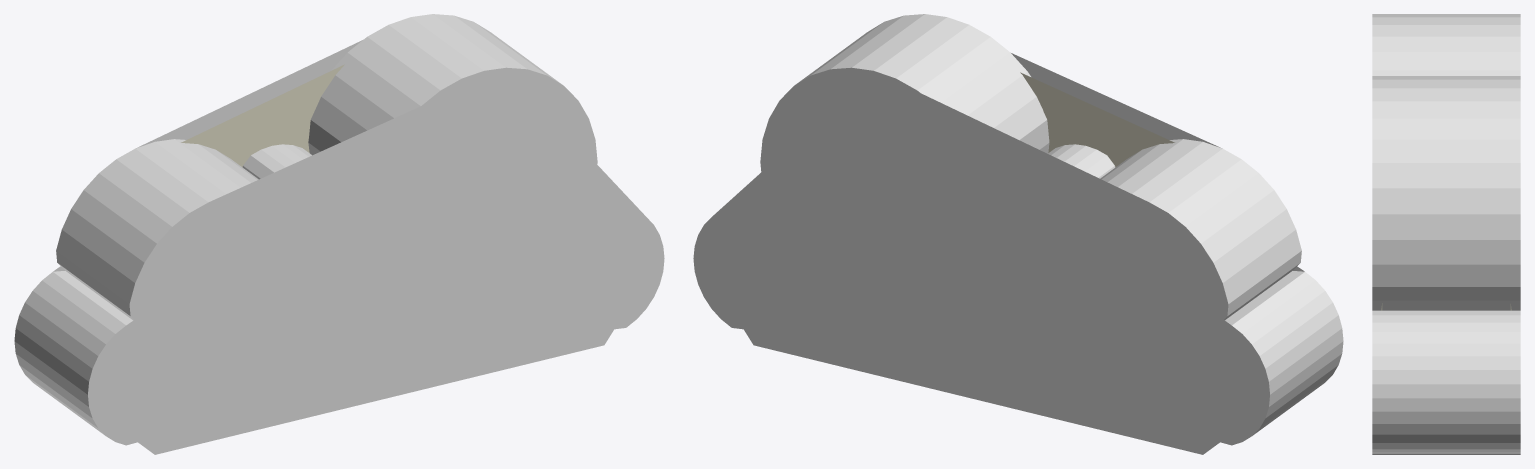
Rendered from resource__surrounding__cloud.fbx.
3 renders of one model, left to right at view 1: azimuth 30°, elevation 25°; view 2: azimuth 150°, elevation 25°; view 3: azimuth 270°, elevation 25°, orthographic.
Visible parts, largest first — view 1: Map_Surrounding_Cloud; view 2: Map_Surrounding_Cloud; view 3: Map_Surrounding_Cloud.
Part boxes in pixels (box(x1,y1,x2,y2)): Map_Surrounding_Cloud: box(14, 14, 664, 454); Map_Surrounding_Cloud: box(693, 14, 1343, 454); Map_Surrounding_Cloud: box(1372, 14, 1520, 454).
Size of the model in its own units: 453 by 228 by 100.
